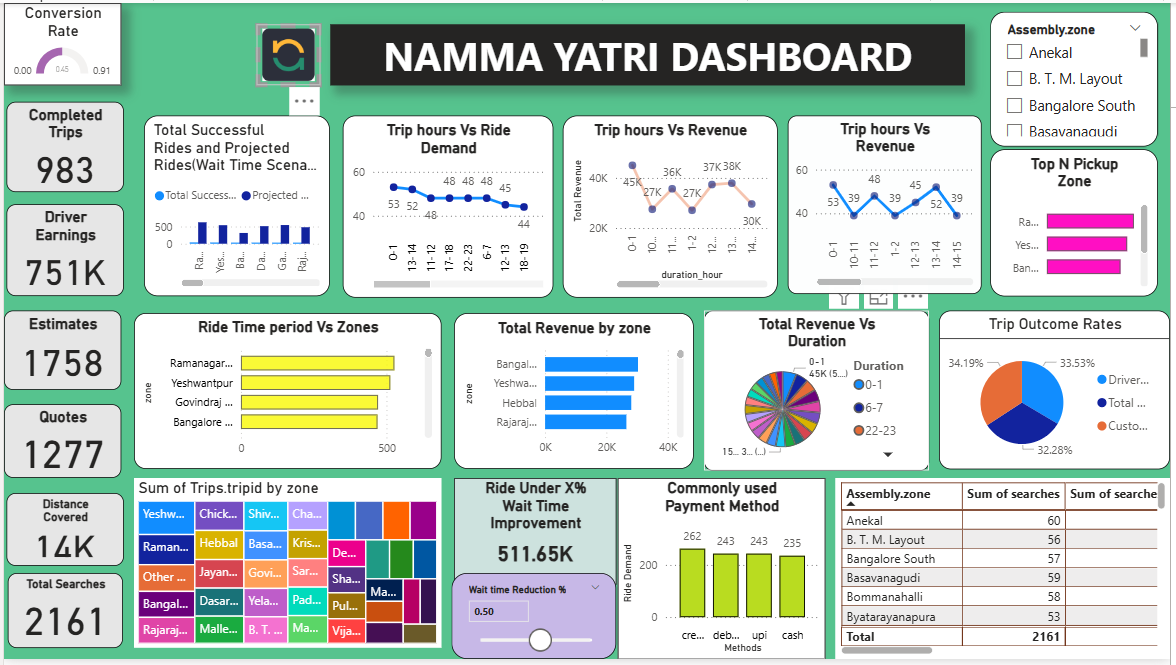

The page's visual inventory and layout, read from the dashboard file:
{"tool":"powerbi","page":{"name":"Dashboard","canvas":[1280,720],"ordinal":0},"visuals":[{"type":"card","title":"Driver Earnings","fields":{"Values":["Sum(Trips.fare)"]},"box":[2.4,221.4,128.6,101.2],"z":0},{"type":"card","title":"Completed Trips","fields":{"Values":["Assembly.Total Successful Rides"]},"box":[2.4,108.3,128.6,98.8],"z":1000},{"type":"card","title":"Estimates","fields":{"Values":["Sum(Trip_Details.searches_got_estimate)"]},"box":[0,336.9,128.6,86.9],"z":2000},{"type":"card","title":"Quotes","fields":{"Values":["Sum(Trip_Details.searches_got_quotes)"]},"box":[0,440.5,128.6,81],"z":3000},{"type":"card","title":"Distance Covered","fields":{"Values":["Sum(Trips.distance)"]},"box":[2.4,538.1,128.6,79.8],"z":4000},{"type":"card","title":"Total Searches","fields":{"Values":["Sum(Trip_Details.searches)"]},"box":[4.8,626.2,126.2,82.1],"z":5000},{"type":"lineChart","title":"Trip hours Vs Ride Demand","fields":{"Category":["TripDuration.duration"],"Y":["CountNonNull(Trip_Details.searches)"]},"box":[371.4,122.9,231.4,200],"z":6000},{"type":"pieChart","title":"Total Revenue Vs Duration","fields":{"Category":["TripDuration.duration"],"Y":["MasterData.Total Revenue"]},"box":[768.4,337.6,247,175.6],"z":7000},{"type":"pieChart","title":"Trip Outcome Rates","fields":{"Y":["Assembly.Driver Cancellations","Assembly.Total Successful Rides","Assembly.Customer Cancellations"]},"box":[1026.4,337.6,253.9,174.3],"z":8000},{"type":"gauge","title":"Conversion Rate","fields":{"Y":["Assembly.conversion_rate"]},"box":[0,0,128.6,90.5],"z":9000},{"type":"tableEx","fields":{"Values":["Merge2.Assembly.zone","Sum(Merge2.searches)","Sum(Merge2.searches_got_quotes)","Sum(Merge2.searches_got_estimate)","Sum(Merge2.searches_for_quotes)","Sum(Merge2.Trips.fare)","Sum(Merge2.Trips.distance)","Assembly.conversion_rate"]},"box":[912.5,521.4,367.8,199],"z":10000},{"type":"textbox","box":[358.1,0,697.1,67.2],"z":11000},{"type":"columnChart","title":"Commonly used Payment Method","fields":{"Category":["Payments.fare_method"],"Y":["CountNonNull(Trips.tripid)"]},"box":[673.8,521.4,227.8,199],"z":12000},{"type":"lineChart","title":"Trip hours Vs Revenue","fields":{"Category":["TripDuration.duration"],"Y":["MasterData.Total Revenue"]},"box":[612.9,122.9,235.7,200],"z":13000},{"type":"lineChart","title":"Trip hours Vs Revenue","fields":{"Category":["TripDuration.duration"],"Y":["Trip_Details.Total Quotes"]},"box":[860,122.9,212.9,195.7],"z":14000},{"type":"barChart","fields":{"Category":["Assembly.zone"],"Y":["Assembly.Total Revenue"]},"box":[494,340.3,263.5,171.5],"z":15000},{"type":"barChart","title":"Ride Time period Vs Zones","fields":{"Category":["Assembly.zone"],"Y":["Sum(Merge2.Trips.duration)"]},"box":[142.7,340.3,337.6,171.5],"z":16000},{"type":"treemap","fields":{"Group":["Assembly.zone"],"Values":["Sum(Merge2.Trips.tripid)"]},"box":[142.7,521.4,337.6,186.6],"z":17000},{"type":"card","title":"Ride Under X% Wait Time Improvement","fields":{"Values":["Assembly.Projected Rides(Wait Time Scenario)"]},"box":[494,521.4,178.4,116.6],"z":18000},{"type":"slicer","fields":{"Values":["Wait time Reduction %.Wait time Reduction %"]},"box":[491.3,625.7,181.1,94.7],"z":19000},{"type":"clusteredColumnChart","fields":{"Y":["Assembly.Total Successful Rides","Assembly.Projected Rides(Wait Time Scenario)"],"Category":["Merge2.Assembly.zone"]},"box":[154.3,122.9,204.3,198.6],"z":20000},{"type":"slicer","fields":{"Values":["Merge2.Assembly.zone"]},"box":[1082.7,9.6,183.9,148.2],"z":21000},{"type":"barChart","title":"Top N Pickup Zone","fields":{"Category":["Merge2.Assembly.zone"],"Y":["CountNonNull(Merge2.Trips.tripid)"]},"box":[1082.7,160.5,183.9,161.9],"z":22000},{"type":"image","box":[288.6,0,70,67.1],"z":22001}]}

Visuals, with their boxes in screenshot pixels (x1, y1, x2, y2), scaled from the page's 1280x720 canvas onto the 1176x665 screenshot:
"Driver Earnings" card: 2:204:120:298
"Completed Trips" card: 2:100:120:191
"Estimates" card: 0:311:118:391
"Quotes" card: 0:407:118:482
"Distance Covered" card: 2:497:120:571
"Total Searches" card: 4:578:120:654
"Trip hours Vs Ride Demand" lineChart: 341:114:554:298
"Total Revenue Vs Duration" pieChart: 706:312:933:474
"Trip Outcome Rates" pieChart: 943:312:1175:473
"Conversion Rate" gauge: 0:0:118:84
tableEx - Merge2.Assembly.zone x Sum(Merge2.searches): 838:482:1175:664
textbox: 329:0:969:62
"Commonly used Payment Method" columnChart: 619:482:828:664
"Trip hours Vs Revenue" lineChart: 563:114:780:298
"Trip hours Vs Revenue" lineChart: 790:114:986:294
barChart - Assembly.zone x Assembly.Total Revenue: 454:314:696:473
"Ride Time period Vs Zones" barChart: 131:314:441:473
treemap - Assembly.zone x Sum(Merge2.Trips.tripid): 131:482:441:654
"Ride Under X% Wait Time Improvement" card: 454:482:618:589
slicer - Wait time Reduction %.Wait time Reduction %: 451:578:618:664
clusteredColumnChart - Assembly.Total Successful Rides x Assembly.Projected Rides(Wait Time Scenario): 142:114:329:297
slicer - Merge2.Assembly.zone: 995:9:1164:146
"Top N Pickup Zone" barChart: 995:148:1164:298
image: 265:0:329:62
